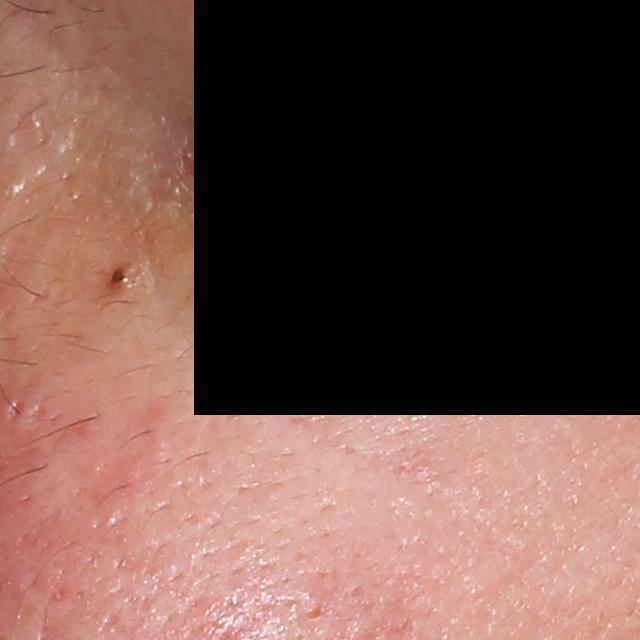nevus: (111, 265, 130, 284)
